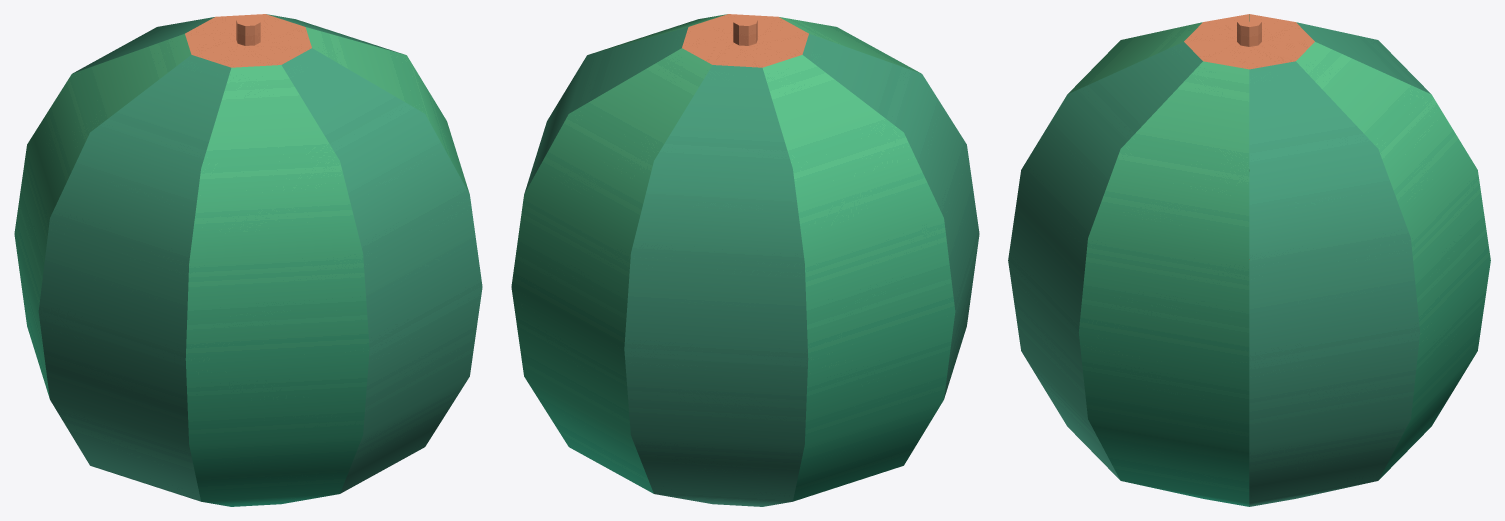
Rendered from watermelon.glb.
3 views of the same model, side by side, from view 1: azimuth 30°, elevation 25°; view 2: azimuth 150°, elevation 25°; view 3: azimuth 270°, elevation 25° (orthographic).
Visible parts, largest first — view 1: slice (×7); view 2: slice (×7); view 3: slice (×6).
Boxes of the visible parts, x1,y1,x2,y2 form: slice (×7): [14, 14, 482, 506]; slice (×7): [511, 14, 979, 506]; slice (×6): [1008, 18, 1490, 506].
Size of the model in its own units: 0.4554 by 0.4761 by 0.4554.
1 material, 1 textured.
